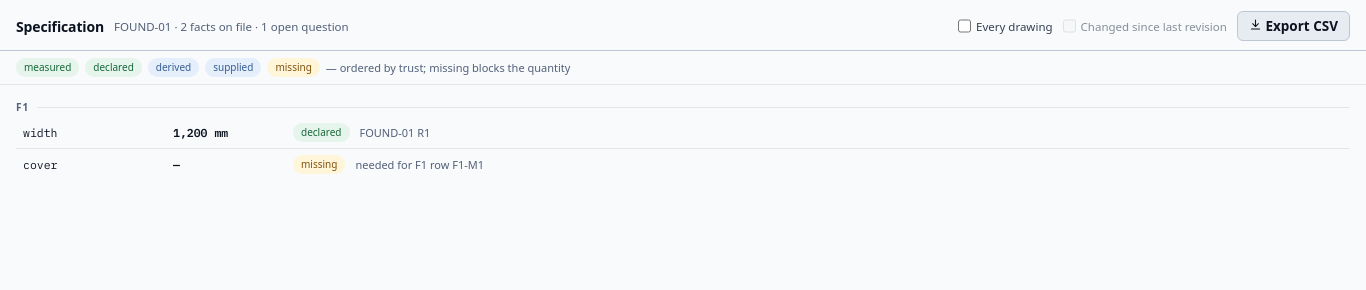
the specification is scoped to the open drawing › “Every drawing” is still one click away — the project view is not lost
The width and height of the screenshot is (1366, 290).
Click the checkbox with test id "spec-whole-project" at (964, 26), box [958,11,971,41]
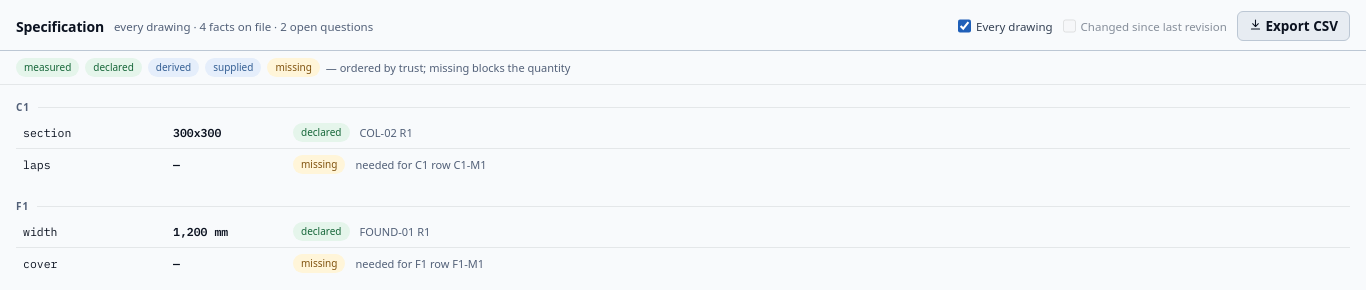
Expected: the element with test id "fact-F1.width" is shown, [16,216,1350,248]
Now the element with test id "fact-C1.section" is shown, box [16,117,1350,149]
Now the text with test id "spec-scope" shows "every drawing · 4 facts on file", box [114,18,373,34]
